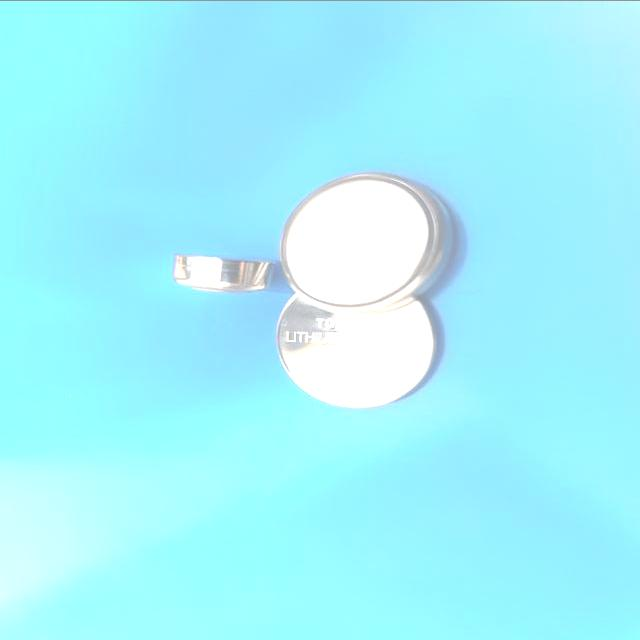COIN: (273, 170, 457, 316), (274, 284, 440, 411), (168, 248, 282, 296)
